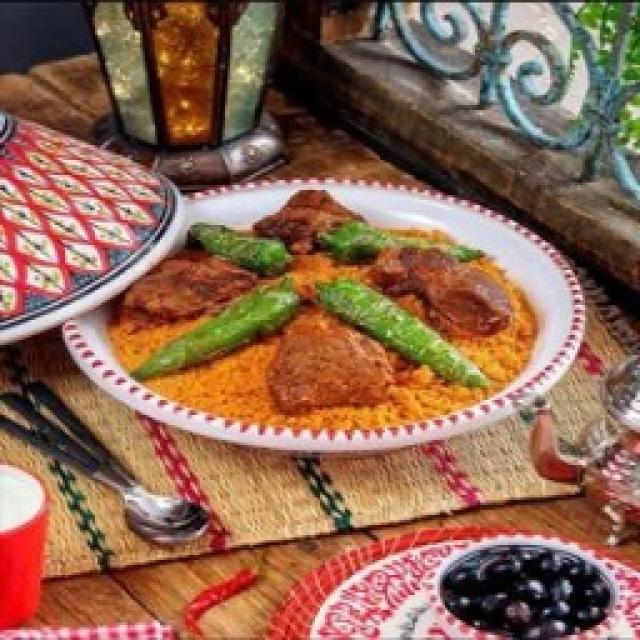Couscous: (68, 182, 632, 530)
